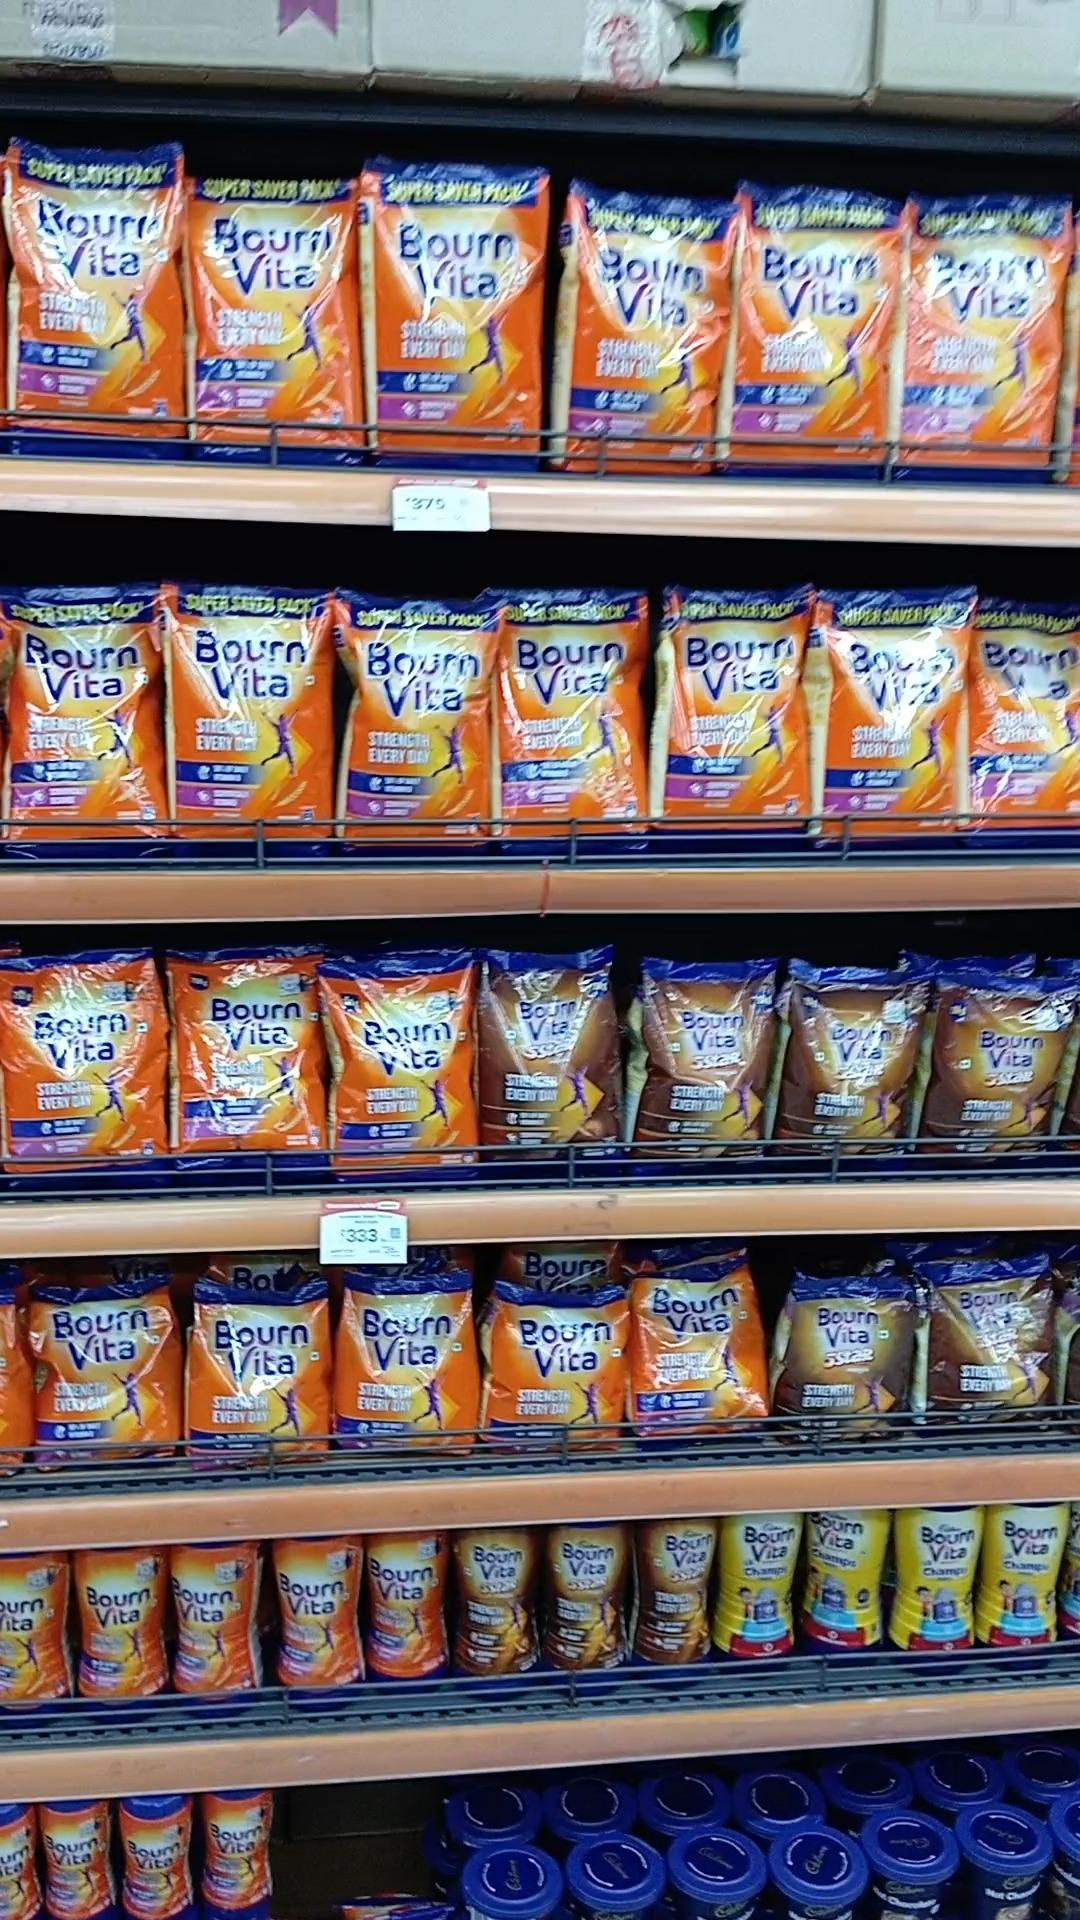BOURN_VITA_1_KG_POUCH: (3, 140, 178, 460), (365, 158, 541, 469), (182, 179, 357, 463), (728, 179, 887, 485), (895, 187, 1058, 481), (170, 583, 335, 872), (558, 181, 715, 479), (0, 588, 164, 870), (498, 587, 654, 862), (336, 591, 488, 869), (819, 588, 961, 860), (669, 591, 806, 862), (976, 592, 1080, 860)
BOURN_VITA_200_G_JAR: (199, 1785, 272, 1920), (116, 1795, 193, 1920), (38, 1796, 109, 1920)
BOURN_VITA_500_G_JAR: (73, 1547, 162, 1726), (266, 1532, 359, 1706), (171, 1536, 255, 1720), (365, 1534, 442, 1696), (0, 1549, 69, 1730)
BOURN_VITA_500_G_POUCH: (34, 1283, 177, 1476), (336, 1275, 477, 1464), (186, 1279, 326, 1465), (484, 1286, 625, 1464), (624, 1271, 757, 1449)
BOURN_VITA_750_G_POUCH: (0, 951, 162, 1204), (169, 945, 315, 1193), (322, 952, 473, 1182)
BOURN_VITA_CHAMPS_500_G_JAR: (989, 1501, 1080, 1672), (895, 1502, 984, 1676), (802, 1510, 882, 1669), (721, 1511, 798, 1675)
BOURN_VITA_FIVE_STAR_MAGIC_500_G_JAR: (541, 1516, 625, 1693), (632, 1513, 716, 1689), (450, 1526, 530, 1698)
BOURN_VITA_FIVE_STAR_MAGIC_500_G_POUCH: (927, 1266, 1050, 1436), (786, 1274, 909, 1439)
BOURN_VITA_FIVE_STAR_MAGIC_750_G_POUCH: (477, 951, 612, 1182), (645, 960, 773, 1180), (783, 967, 916, 1175), (934, 976, 1065, 1170)
